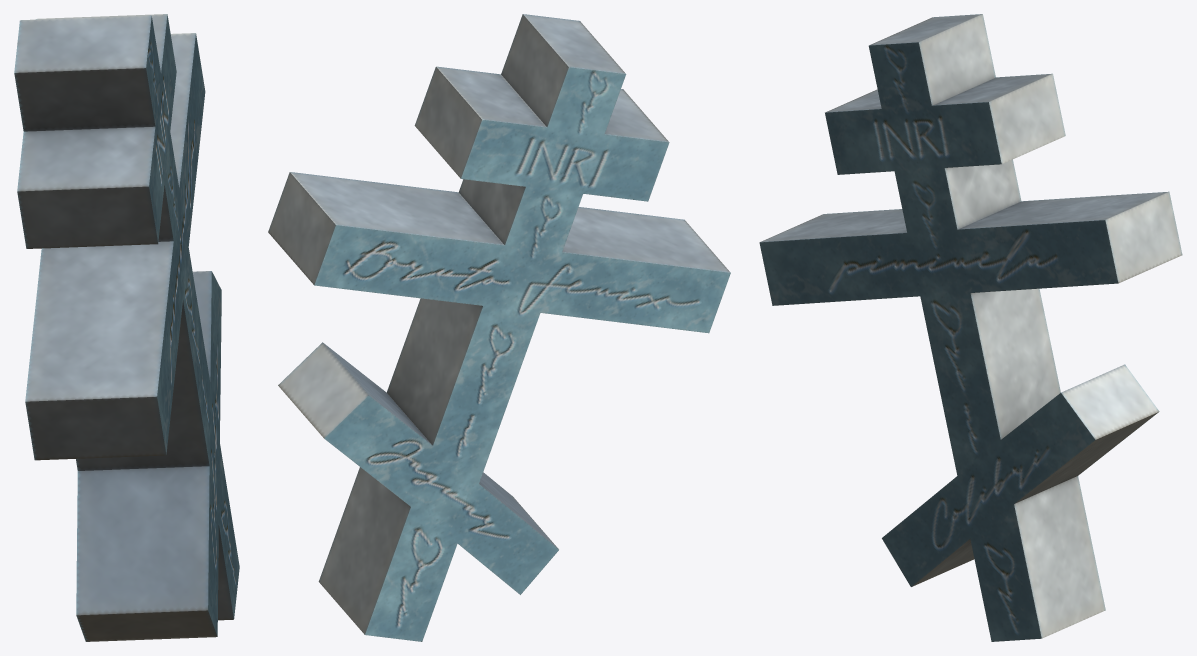
3 renders of one model, left to right at view 1: azimuth 30°, elevation 25°; view 2: azimuth 150°, elevation 25°; view 3: azimuth 270°, elevation 25°, orthographic. The views are drawn at different scales.
Parts seen in each view (by area): view 1: Cruz_Orto_Cube.011; view 2: Cruz_Orto_Cube.011; view 3: Cruz_Orto_Cube.011.
Boxes of the visible parts, bbox=[...] form: Cruz_Orto_Cube.011: bbox=[14, 14, 239, 641]; Cruz_Orto_Cube.011: bbox=[268, 14, 730, 641]; Cruz_Orto_Cube.011: bbox=[759, 14, 1182, 641].
Bounding box in the file's own units: 1.5 × 2.69 × 1.85.
